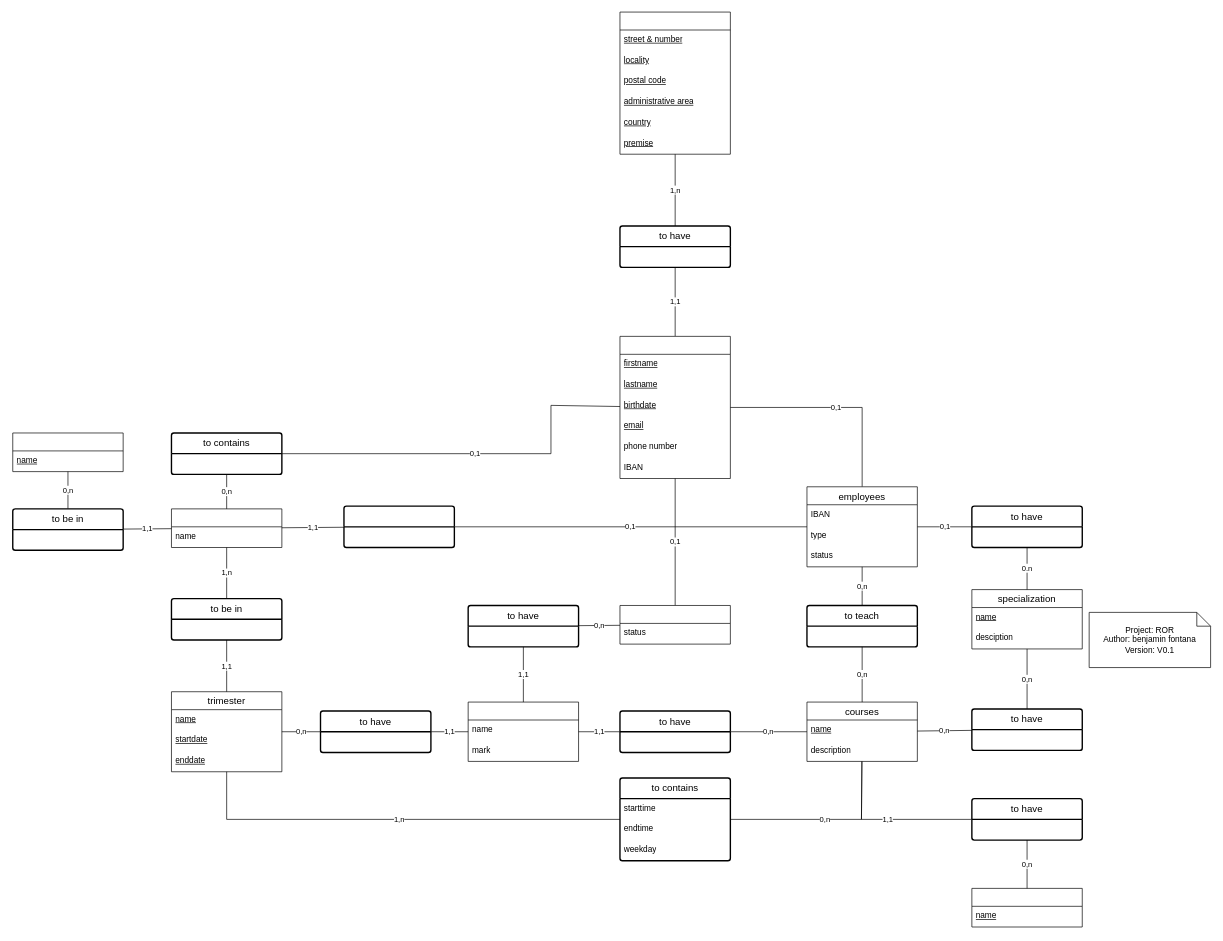
The diagram is 1223 pixels wide and 941 high, and some of its shapes have lost their labels. The shapes that lost their labels are listed below. From the top down, each one's box as (x1, y1, x2, y2) in pixels, then its label:
(619, 11, 730, 154): addresses
(619, 336, 730, 479): people
(12, 432, 123, 472): rooms
(171, 508, 282, 548): classes
(343, 505, 455, 548): to be responsible
(619, 605, 730, 644): students
(467, 701, 579, 761): marks
(971, 888, 1082, 927): courses_status
